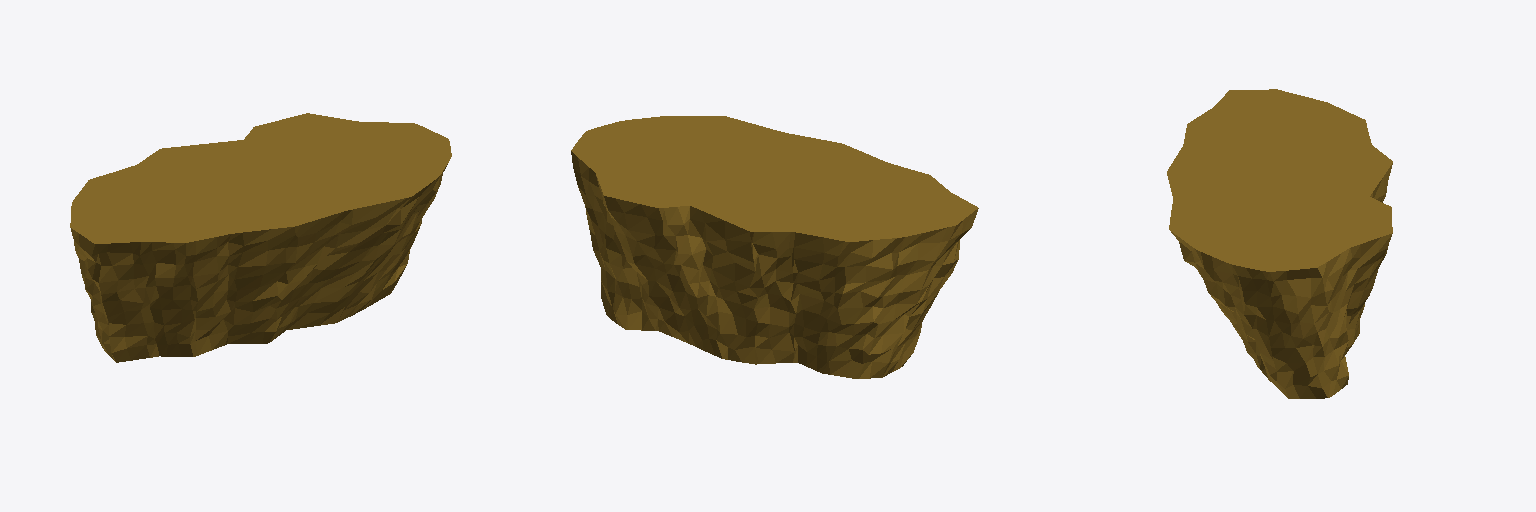
File: cliff.obj
The picture shows the model from 3 angles: view 1: azimuth 30°, elevation 25°; view 2: azimuth 150°, elevation 25°; view 3: azimuth 270°, elevation 25°; orthographic projection.
Visible parts, largest first — view 1: 로프트, 캡_1; view 2: 로프트, 캡_1; view 3: 캡_1, 로프트.
Part boxes in pixels (x1,y1,x2,y2): 로프트: (71,164,447,362); 캡_1: (70,113,451,243); 로프트: (571,151,978,378); 캡_1: (571,116,977,241); 캡_1: (1167,89,1392,271); 로프트: (1171,163,1392,398).
Size of the model in its own units: 745 by 287 by 392.